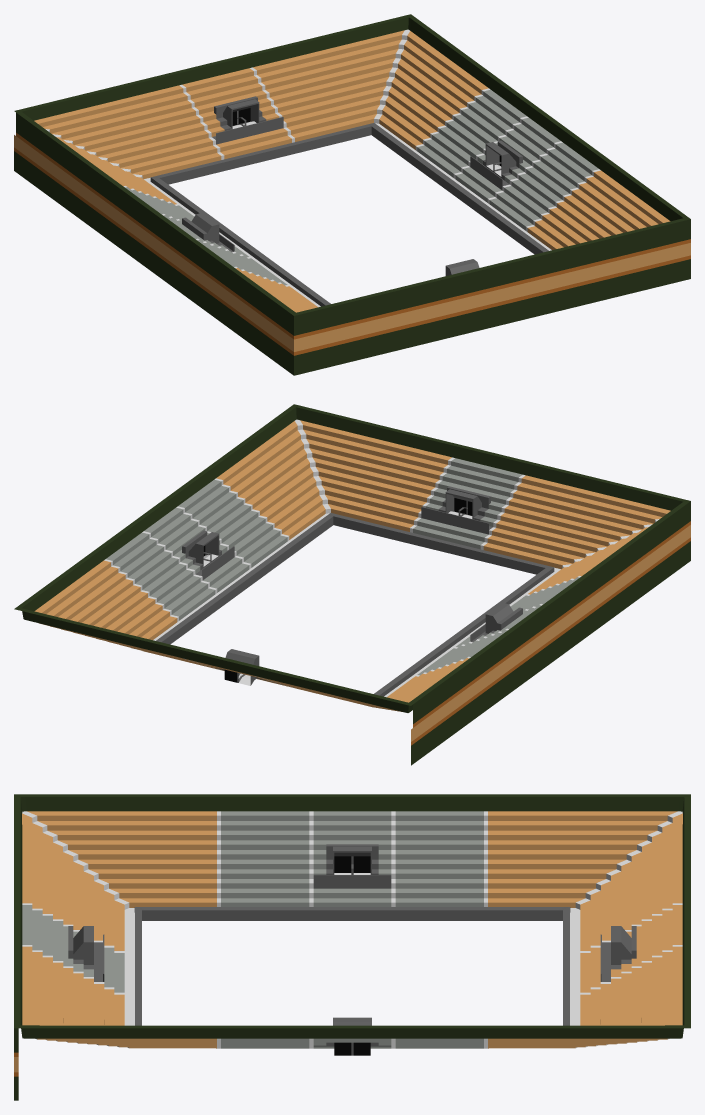
File: Estadio Retangulo.fbx
3 renders of one model, top to bottom at view 1: azimuth 30°, elevation 25°; view 2: azimuth 150°, elevation 25°; view 3: azimuth 270°, elevation 25°, orthographic. The views are drawn at different scales.
Visible parts, largest first — view 1: Estadio Simples Retangulo; view 2: Estadio Simples Retangulo; view 3: Estadio Simples Retangulo.
Boxes of the visible parts, left/top/right/bottom form: Estadio Simples Retangulo: left=14, top=14, right=690, bottom=375; Estadio Simples Retangulo: left=14, top=404, right=690, bottom=765; Estadio Simples Retangulo: left=14, top=794, right=690, bottom=1100.
Size of the model in its own units: 23078 by 18886 by 2726.
